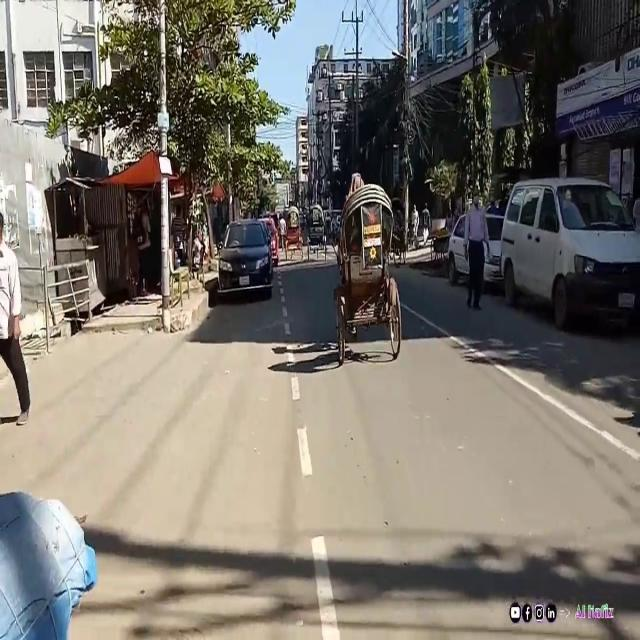black: (215, 220, 274, 309)
white: (502, 176, 640, 333), (446, 214, 510, 294)
